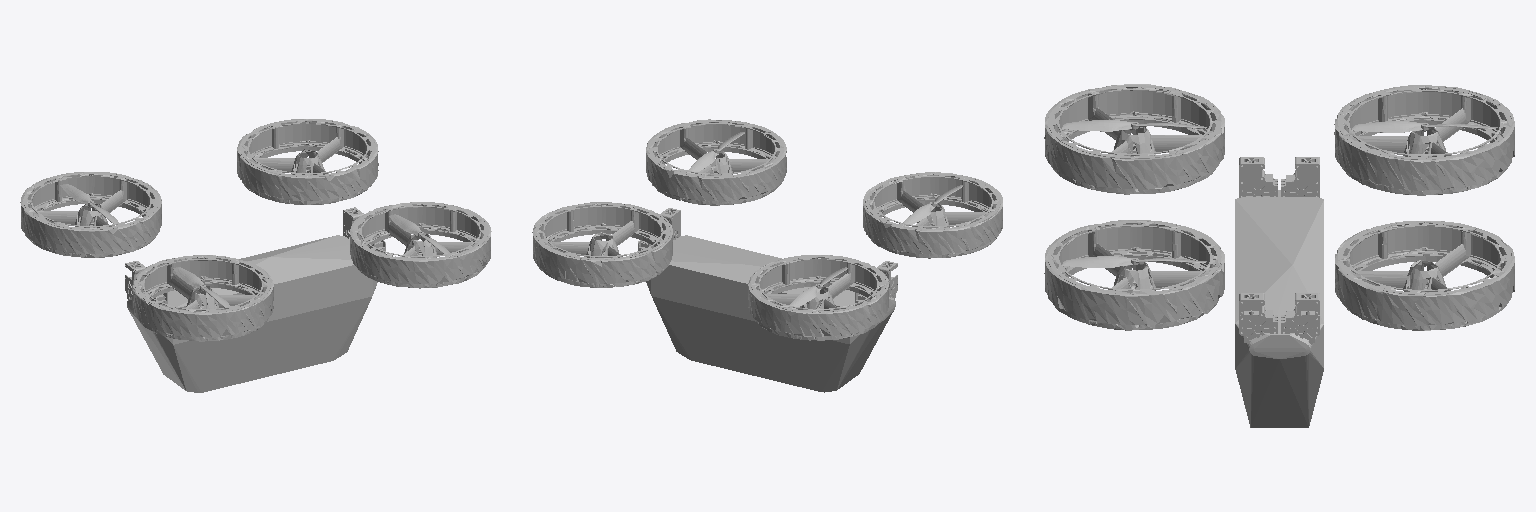
--- What the picture shows (computed from the rendered views, not written in the file) ---
The picture shows the robot from 3 angles, left to right: view 1: azimuth 30°, elevation 25°; view 2: azimuth 150°, elevation 25°; view 3: azimuth 270°, elevation 25°; orthographic projection.
Model m4assembly with 22 links and 21 joints (10 revolute, 4 continuous, 7 fixed), rooted at base_link, posed every joint at zero.
Visible links, largest first — view 1: base_link, front_left_wheel, rear_left_wheel, rear_right_wheel, front_right_wheel; view 2: base_link, front_left_wheel, front_right_wheel, rear_right_wheel, rear_left_wheel; view 3: base_link, front_left_wheel, rear_left_wheel, front_right_wheel, rear_right_wheel, front_right_hip, front_left_hip, rear_right_hip, rear_left_hip, front_right_blade, rear_left_blade, rear_right_blade.
Boxes of the visible links, x1=… form: base_link: x1=127, y1=235, x2=377, y2=392; front_left_wheel: x1=237, y1=119, x2=378, y2=204; rear_left_wheel: x1=20, y1=172, x2=161, y2=257; rear_right_wheel: x1=132, y1=255, x2=273, y2=341; front_right_wheel: x1=350, y1=202, x2=491, y2=288; base_link: x1=646, y1=235, x2=895, y2=392; front_left_wheel: x1=532, y1=202, x2=672, y2=287; front_right_wheel: x1=646, y1=119, x2=786, y2=205; rear_right_wheel: x1=863, y1=172, x2=1002, y2=258; rear_left_wheel: x1=748, y1=255, x2=888, y2=340; base_link: x1=1235, y1=190, x2=1323, y2=427; front_left_wheel: x1=1335, y1=221, x2=1514, y2=330; rear_left_wheel: x1=1334, y1=85, x2=1514, y2=195; front_right_wheel: x1=1044, y1=220, x2=1224, y2=330; rear_right_wheel: x1=1044, y1=84, x2=1224, y2=194; front_right_hip: x1=1239, y1=293, x2=1277, y2=343; front_left_hip: x1=1281, y1=293, x2=1319, y2=344; rear_right_hip: x1=1239, y1=157, x2=1277, y2=197; rear_left_hip: x1=1281, y1=157, x2=1319, y2=197; front_right_blade: x1=1062, y1=256, x2=1206, y2=267; rear_left_blade: x1=1352, y1=121, x2=1497, y2=132; rear_right_blade: x1=1062, y1=119, x2=1206, y2=131.
Size in the robot's own frame: 0.6978 by 0.6533 by 0.2982 metres.
12 mesh visuals loaded from 18 distinct referenced files (12 binary STL); not drawn: 6 (reference not matched to a file when rendering).

The robot description file, URDF, robot "m4assembly":
<?xml version="1.0" encoding="utf-8"?>

<robot name="m4assembly">
  <joint name="m4/ground_truth/odometry_sensorgt_joint" type="revolute">
    <parent link="base_link"/>
    <child link="m4/ground_truth/odometry_sensorgt_link"/>
    <origin xyz="0      0      0.19492" rpy="0 0 0"/>
    <axis xyz="0 0 1"/>
    <limit lower="0.0" upper="0.0" effort="0.0" velocity="0.0"/>
  </joint>
  <joint name="m4/imu_joint" type="revolute">
    <parent link="base_link"/>
    <child link="m4/imu_link"/>
    <origin xyz="0      0      0.19492" rpy="0 0 0"/>
    <axis xyz="0 0 1"/>
    <limit lower="0.0" upper="0.0" effort="0.0" velocity="0.0"/>
  </joint>
  <link name="m4/ground_truth/odometry_sensorgt_link">
    <inertial>
      <mass value="0.001"/>
      <origin xyz="0 0 0" rpy="0 0 0"/>
      <inertia ixx="0.0001" ixy="0" ixz="0" iyy="0.0002" iyz="0" izz="0.0002"/>
    </inertial>
  </link>
  <link name="m4/imu_link">
   <inertial>
      <mass value="0.001"/>
      <origin xyz="0 0 0" rpy="0 0 0"/>
      <inertia ixx="0.00001" ixy="0" ixz="0" iyy="0.00002" iyz="0" izz="0.00002"/>
   </inertial>
  </link>
  <link
    name="base_link">
    <inertial>
      <origin
        xyz="0.00014012 -1.2866E-05 -0.067235"
        rpy="0 0 0" />
      <mass
        value="1.054" />
      <inertia
        ixx="0.00066925"
        ixy="-1.7138E-07"
        ixz="8.4179E-07"
        iyy="0.0060916"
        iyz="-5.4732E-08"
        izz="0.006372" />
    </inertial>
    <visual>
      <origin
        xyz="0 0 0"
        rpy="0 0 0" />
      <geometry>
        <mesh
          filename="package://simulation_world/meshes/base_link.STL" />
      </geometry>
      <material
        name="">
        <color
          rgba="0.75294 0.75294 0.75294 1" />
      </material>
    </visual>
    <collision>
      <origin
        xyz="0 0 0"
        rpy="0 0 0" />
      <geometry>
        <mesh
          filename="package://simulation_world/meshes/col/base_link.STL" />
      </geometry>
    </collision>
  </link>
  <link
    name="rear_left_hip">
    <inertial>
      <origin
        xyz="0.032048263261567 0.00148857273521091 0.000801285389170403"
        rpy="0 0 0" />
      <mass
        value="0.0631744337027232" />
      <inertia
        ixx="1.00187470871694E-05"
        ixy="1.26346518144828E-06"
        ixz="-1.71088892144535E-13"
        iyy="1.47423630145446E-05"
        iyz="-3.33426314544602E-14"
        izz="2.18314090226691E-05" />
    </inertial>
    <visual>
      <origin
        xyz="0 0 0"
        rpy="0 0 0" />
      <geometry>
        <mesh
          filename="package://simulation_world/meshes/rear_left_hip.STL" />
      </geometry>
      <material
        name="">
        <color
          rgba="0.752941176470588 0.752941176470588 0.752941176470588 1" />
      </material>
    </visual>
    <collision>
      <origin
        xyz="0 0 0"
        rpy="0 0 0" />
      <geometry>
        <mesh
          filename="package://simulation_world/meshes/col/rear_left_hip.STL" />
      </geometry>
    </collision>
  </link>
  <joint
    name="rear_left_hip_joint"
    type="revolute">
    <origin
      xyz="-0.2231 0.0323 -0.02605"
      rpy="1.5708 -1.5708 1.5708" />
    <parent
      link="base_link" />
    <child
      link="rear_left_hip" />
    <axis
      xyz="0 0 1" />
    <limit
      lower="0"
      upper="0"
      effort="10.5"
      velocity="1.57" />
  </joint>
  <link
    name="rear_left_leg">
    <inertial>
      <origin
        xyz="-3.41455978458693E-06 0.0865094820933296 -0.00425258484840052"
        rpy="0 0 0" />
      <mass
        value="0.208886814057311" />
      <inertia
        ixx="7.70084638154863E-05"
        ixy="9.13752456418355E-09"
        ixz="3.41558069671286E-07"
        iyy="5.22430908180149E-05"
        iyz="-3.49227338347394E-08"
        izz="5.21652155907927E-05" />
    </inertial>
    <visual>
      <origin
        xyz="0 0 0"
        rpy="0 0 0" />
      <geometry>
        <mesh
          filename="package://simulation_world/meshes/rear_left_leg.STL" />
      </geometry>
      <material
        name="">
        <color
          rgba="0.752941176470588 0.752941176470588 0.752941176470588 1" />
      </material>
    </visual>
    <collision>
      <origin
        xyz="0 0 0"
        rpy="0 0 0" />
      <geometry>
        <mesh
          filename="package://simulation_world/meshes/col/rear_left_leg.STL" />
      </geometry>
    </collision>
  </link>
  <joint
    name="rear_left_leg_joint"
    type="fixed">
    <origin
      xyz="0.0611 -0.006895 -5E-05"
      rpy="1.5708 -1.5526 1.5708" />
    <parent
      link="rear_left_hip" />
    <child
      link="rear_left_leg" />
    <axis
      xyz="0 0 -1" />
  </joint>
  <link
    name="rear_left_wheel">
    <inertial>
      <origin
        xyz="-1.2835011736767E-06 2.34490590667047E-07 -0.0298825868697071"
        rpy="0 0 0" />
      <mass
        value="0.447367748033206" />
      <inertia
        ixx="0.00104268899323013"
        ixy="-3.91603340525233E-08"
        ixz="3.60415118706037E-11"
        iyy="0.00104263881447407"
        iyz="-3.26123864995785E-11"
        izz="0.00200352361648073" />
    </inertial>
    <visual>
      <origin
        xyz="0 0 0"
        rpy="0 0 0" />
      <geometry>
        <mesh
          filename="package://simulation_world/meshes/rear_left_wheel.STL" />
      </geometry>
      <material
        name="">
        <color
          rgba="0.752941176470588 0.752941176470588 0.752941176470588 1" />
      </material>
    </visual>
    <collision>
      <origin
        xyz="0 0 0"
        rpy="0 0 0" />
      <geometry>
        <mesh
          filename="package://simulation_world/meshes/col/rear_left_wheel.STL" />
      </geometry>
    </collision>
  </link>
  <joint
    name="rear_left_wheel_joint"
    type="continuous">
    <origin
      xyz="0 0.162 0.011129"
      rpy="-3.1416 0 0.018227" />
    <parent
      link="rear_left_leg" />
    <child
      link="rear_left_wheel" />
    <axis
      xyz="0 0 -1" />
    <limit
      effort="200"
      velocity="200" />
  </joint>
  <link
    name="rear_left_blade">
    <inertial>
      <origin
        xyz="0 0 0.0082946342231609"
        rpy="0 0 0" />
      <mass
        value="0.00610274937825579" />
      <inertia ixx="9.75e-06" ixy="0" ixz="0" iyy="0.000166704" iyz="0" izz="0.000167604"/>
    </inertial>
    <visual>
      <origin
        xyz="0 0 0"
        rpy="0 0 0" />
      <geometry>
        <mesh
          filename="package://simulation_world/meshes/rear_left_blade.STL" />
      </geometry>
      <material
        name="">
        <color
          rgba="0.752941176470588 0.752941176470588 0.752941176470588 1" />
      </material>
    </visual>
    <collision>
      <origin
        xyz="0 0 0"
        rpy="0 0 0" />
      <geometry>
        <cylinder radius="0.1" length="0.005"/>
      </geometry>
    </collision>
  </link>
  <joint
    name="rear_left_blade_joint"
    type="revolute">
    <origin
      xyz="0 0.162 0.061129"
      rpy="-0.0099006 0 0.018227" />
    <parent
      link="rear_left_leg" />
    <child
      link="rear_left_blade" />
    <axis
      xyz="0 -0.0099004 0.99995" />
    <limit lower="-1e+16" upper="1e+16" effort="10000" velocity="10000"/>
  </joint>
  <link
    name="rear_right_hip">
    <inertial>
      <origin
        xyz="0.0320482634870919 0.00148857274187802 -0.000820989548367512"
        rpy="0 0 0" />
      <mass
        value="0.0631744341018766" />
      <inertia
        ixx="1.00187470810585E-05"
        ixy="1.26346518895748E-06"
        ixz="-1.58209935155058E-13"
        iyy="1.47423629783338E-05"
        iyz="-2.99342928986296E-14"
        izz="2.18314089935792E-05" />
    </inertial>
    <visual>
      <origin
        xyz="0 0 0"
        rpy="0 0 0" />
      <geometry>
        <mesh
          filename="package://simulation_world/meshes/rear_right_hip.STL" />
      </geometry>
      <material
        name="">
        <color
          rgba="0.752941176470588 0.752941176470588 0.752941176470588 1" />
      </material>
    </visual>
    <collision>
      <origin
        xyz="0 0 0"
        rpy="0 0 0" />
      <geometry>
        <mesh
          filename="package://simulation_world/meshes/col/rear_right_hip.STL" />
      </geometry>
    </collision>
  </link>
  <joint
    name="rear_right_hip_joint"
    type="revolute">
    <origin
      xyz="-0.2235 -0.0323 -0.02605"
      rpy="1.5708 -1.5708 -1.5708" />
    <parent
      link="base_link" />
    <child
      link="rear_right_hip" />
    <axis
      xyz="0 0 1" />
    <limit
      lower="0"
      upper="0"
      effort="10.5"
      velocity="1.57" />
  </joint>
  <link
    name="rear_right_leg">
    <inertial>
      <origin
        xyz="3.41455156416259E-06 0.0865094821571721 0.00425258483326613"
        rpy="0 0 0" />
      <mass
        value="0.208886814304404" />
      <inertia
        ixx="7.70084638389827E-05"
        ixy="-9.13752631729426E-09"
        ixz="3.41558058672973E-07"
        iyy="5.22430908411789E-05"
        iyz="3.49227166953638E-08"
        izz="5.21652156031499E-05" />
    </inertial>
    <visual>
      <origin
        xyz="0 0 0"
        rpy="0 0 0" />
      <geometry>
        <mesh
          filename="package://simulation_world/meshes/rear_right_leg.STL" />
      </geometry>
      <material
        name="">
        <color
          rgba="0.752941176470588 0.752941176470588 0.752941176470588 1" />
      </material>
    </visual>
    <collision>
      <origin
        xyz="0 0 0"
        rpy="0 0 0" />
      <geometry>
        <mesh
          filename="package://simulation_world/meshes/col/rear_right_leg.STL" />
      </geometry>
    </collision>
  </link>
  <joint
    name="rear_right_leg_joint"
    type="fixed">
    <origin
      xyz="0.0611 -0.006895 0"
      rpy="3.1416 1.5708 0" />
    <parent
      link="rear_right_hip" />
    <child
      link="rear_right_leg" />
    <axis
      xyz="0 0 1" />
  </joint>
  <link
    name="rear_right_wheel">
    <inertial>
      <origin
        xyz="-1.78659846361562E-08 -2.01874887645337E-06 0.0255799203790625"
        rpy="0 0 0" />
      <mass
        value="0.447367750743676" />
      <inertia
        ixx="0.0010426206896193"
        ixy="-2.73561891555305E-10"
        ixz="3.48030847023143E-11"
        iyy="0.00104270712224184"
        iyz="3.22928670574781E-11"
        izz="0.00200352362095162" />
    </inertial>
    <visual>
      <origin
        xyz="0 0 0"
        rpy="0 0 0" />
      <geometry>
        <mesh
          filename="package://simulation_world/meshes/rear_right_wheel.STL" />
      </geometry>
      <material
        name="">
        <color
          rgba="0.752941176470588 0.752941176470588 0.752941176470588 1" />
      </material>
    </visual>
    <collision>
      <origin
        xyz="0 0 0"
        rpy="0 0 0" />
      <geometry>
        <mesh
          filename="package://simulation_world/meshes/col/rear_right_wheel.STL" />
      </geometry>
    </collision>
  </link>
  <joint
    name="rear_right_wheel_joint"
    type="continuous">
    <origin
      xyz="0 0.162 -0.015431"
      rpy="3.1416 0 0" />
    <parent
      link="rear_right_leg" />
    <child
      link="rear_right_wheel" />
    <axis
      xyz="0 0 -1" />
    <limit
      effort="200"
      velocity="200" />
  </joint>
  <link
    name="rear_right_blade">
    <inertial>
      <origin
        xyz="0 0 0.00399237045178649"
        rpy="0 0 0" />
      <mass
        value="0.00610270077025495" />
      <inertia ixx="9.75e-06" ixy="0" ixz="0" iyy="0.000166704" iyz="0" izz="0.000167604"/>
    </inertial>
    <visual>
      <origin
        xyz="0 0 0"
        rpy="0 0 0" />
      <geometry>
        <mesh
          filename="package://simulation_world/meshes/rear_right_blade.STL" />
      </geometry>
      <material
        name="">
        <color
          rgba="0.752941176470588 0.752941176470588 0.752941176470588 1" />
      </material>
    </visual>
    <collision>
      <origin
        xyz="0 0 0"
        rpy="0 0 0" />
      <geometry>
        <mesh
          filename="package://simulation_world/meshes/col/rear_right_blade.STL" />
      </geometry>
    </collision>
  </link>
  <joint
    name="rear_right_blade_joint"
    type="revolute">
    <origin
      xyz="0 0.162 -0.065431"
      rpy="3.1416 0 0" />
    <parent
      link="rear_right_leg" />
    <child
      link="rear_right_blade" />
    <axis
      xyz="0 0 1" />
    <limit lower="-1e+16" upper="1e+16" effort="10000" velocity="10000"/>  
  </joint>
  <link
    name="front_left_hip">
    <inertial>
      <origin
        xyz="0.0320482633471696 0.00148857273674285 0.00169341200883941"
        rpy="0 0 0" />
      <mass
        value="0.0631744338743183" />
      <inertia
        ixx="1.00187470896772E-05"
        ixy="1.26346518496343E-06"
        ixz="-1.75127210359815E-13"
        iyy="1.474236301921E-05"
        iyz="-3.22758580937248E-14"
        izz="2.18314090243211E-05" />
    </inertial>
    <visual>
      <origin
        xyz="0 0 0"
        rpy="0 0 0" />
      <geometry>
        <mesh
          filename="package://simulation_world/meshes/front_left_hip.STL" />
      </geometry>
      <material
        name="">
        <color
          rgba="0.752941176470588 0.752941176470588 0.752941176470588 1" />
      </material>
    </visual>
    <collision>
      <origin
        xyz="0 0 0"
        rpy="0 0 0" />
      <geometry>
        <mesh
          filename="package://simulation_world/meshes/col/front_left_hip.STL" />
      </geometry>
    </collision>
  </link>
  <joint
    name="front_left_hip_joint"
    type="revolute">
    <origin
      xyz="0.22099 0.0323 -0.02605"
      rpy="1.5708 -1.5708 1.5708" />
    <parent
      link="base_link" />
    <child
      link="front_left_hip" />
    <axis
      xyz="0 0 1" />
    <limit
      lower="0"
      upper="0"
      effort="10.5"
      velocity="1.57" />
  </joint>
  <link
    name="front_left_leg">
    <inertial>
      <origin
        xyz="-3.41455576607095E-06 0.0865094821265606 -0.00425258483916741"
        rpy="0 0 0" />
      <mass
        value="0.208886814202469" />
      <inertia
        ixx="7.70084638282559E-05"
        ixy="9.13752541336675E-09"
        ixz="3.41558064254658E-07"
        iyy="5.22430908306995E-05"
        iyz="-3.49227240782923E-08"
        izz="5.21652155975951E-05" />
    </inertial>
    <visual>
      <origin
        xyz="0 0 0"
        rpy="0 0 0" />
      <geometry>
        <mesh
          filename="package://simulation_world/meshes/front_left_leg.STL" />
      </geometry>
      <material
        name="">
        <color
          rgba="0.752941176470588 0.752941176470588 0.752941176470588 1" />
      </material>
    </visual>
    <collision>
      <origin
        xyz="0 0 0"
        rpy="0 0 0" />
      <geometry>
        <mesh
          filename="package://simulation_world/meshes/col/front_left_leg.STL" />
      </geometry>
    </collision>
  </link>
  <joint
    name="front_left_leg_joint"
    type="fixed">
    <origin
      xyz="0.0611 -0.006895 0.0025144"
      rpy="-1.5708 -1.5708 -1.5708" />
    <parent
      link="front_left_hip" />
    <child
      link="front_left_leg" />
    <axis
      xyz="0 0 -1" />
  </joint>
  <link
    name="front_left_wheel">
    <inertial>
      <origin
        xyz="1.77235233511999E-08 -2.01879895370127E-06 -0.0284894545323338"
        rpy="0 0 0" />
      <mass
        value="0.447367750292981" />
      <inertia
        ixx="0.00104262069065618"
        ixy="2.74220212176939E-10"
        ixz="3.54050122778484E-11"
        iyy="0.00104270712119543"
        iyz="-3.25695335683767E-11"
        izz="0.00200352362063109" />
    </inertial>
    <visual>
      <origin
        xyz="0 0 0"
        rpy="0 0 0" />
      <geometry>
        <mesh
          filename="package://simulation_world/meshes/front_left_wheel.STL" />
      </geometry>
      <material
        name="">
        <color
          rgba="0.752941176470588 0.752941176470588 0.752941176470588 1" />
      </material>
    </visual>
    <collision>
      <origin
        xyz="0 0 0"
        rpy="0 0 0" />
      <geometry>
        <mesh
          filename="package://simulation_world/meshes/col/front_left_wheel.STL" />
      </geometry>
    </collision>
  </link>
  <joint
    name="front_left_wheel_joint"
    type="continuous">
    <origin
      xyz="0 0.162 0.012522"
      rpy="3.1416 0 0" />
    <parent
      link="front_left_leg" />
    <child
      link="front_left_wheel" />
    <axis
      xyz="0 0 -1" />
    <limit
      effort="200"
      velocity="200" />
  </joint>
  <link
    name="front_left_blade">
    <inertial>
      <origin
        xyz="0 0 0.0069019562259629"
        rpy="0 0 0" />
      <mass
        value="0.0061028301426362" />
      <inertia ixx="9.75e-06" ixy="0" ixz="0" iyy="0.000166704" iyz="0" izz="0.000167604"/>
    </inertial>
    <visual>
      <origin
        xyz="0 0 0"
        rpy="0 0 0" />
      <geometry>
        <mesh
          filename="package://simulation_world/meshes/front_left_blade.STL" />
      </geometry>
      <material
        name="">
        <color
          rgba="0.752941176470588 0.752941176470588 0.752941176470588 1" />
      </material>
    </visual>
    <collision>
      <origin
        xyz="0 0 0"
        rpy="0 0 0" />
      <geometry>
        <mesh
          filename="package://simulation_world/meshes/col/front_left_blade.STL" />
      </geometry>
    </collision>
  </link>
  <joint
    name="front_left_blade_joint"
    type="revolute">
    <origin
      xyz="0 0.162 0.062522"
      rpy="0 0 0" />
    <parent
      link="front_left_leg" />
    <child
      link="front_left_blade" />
    <axis
      xyz="0 0 1" />
    <limit lower="-1e+16" upper="1e+16" effort="10000" velocity="10000"/>
  </joint>
  <link
    name="front_right_hip">
    <inertial>
      <origin
        xyz="0.0320482634665248 0.0014885727412563 -0.00131311618414334"
        rpy="0 0 0" />
      <mass
        value="0.0631744340641276" />
      <inertia
        ixx="1.00187470815544E-05"
        ixy="1.26346518823477E-06"
        ixz="-1.57692513882067E-13"
        iyy="1.47423629788781E-05"
        iyz="-2.96148209881054E-14"
        izz="2.18314089943886E-05" />
    </inertial>
    <visual>
      <origin
        xyz="0 0 0"
        rpy="0 0 0" />
      <geometry>
        <mesh
          filename="package://simulation_world/meshes/front_right_hip.STL" />
      </geometry>
      <material
        name="">
        <color
          rgba="0.752941176470588 0.752941176470588 0.752941176470588 1" />
      </material>
    </visual>
    <collision>
      <origin
        xyz="0 0 0"
        rpy="0 0 0" />
      <geometry>
        <mesh
          filename="package://simulation_world/meshes/col/front_right_hip.STL" />
      </geometry>
    </collision>
  </link>
  <joint
    name="front_right_hip_joint"
    type="revolute">
    <origin
      xyz="0.22099 -0.0323 -0.02605"
      rpy="1.5708 -1.5708 -1.5708" />
    <parent
      link="base_link" />
    <child
      link="front_right_hip" />
    <axis
      xyz="0 0 1" />
    <limit
      lower="0"
      upper="0"
      effort="10.5"
      velocity="1.57" />
  </joint>
  <link
    name="front_right_leg">
    <inertial>
      <origin
        xyz="3.41455365766163E-06 0.0865094821436897 0.00425258483703411"
        rpy="0 0 0" />
      <mass
        value="0.208886814244098" />
      <inertia
        ixx="7.70084638339796E-05"
        ixy="-9.13752605384622E-09"
        ixz="3.4155806167583E-07"
        iyy="5.2243090836002E-05"
        iyz="3.49227209398553E-08"
        izz="5.21652156003534E-05" />
    </inertial>
    <visual>
      <origin
        xyz="0 0 0"
        rpy="0 0 0" />
      <geometry>
        <mesh
          filename="package://simulation_world/meshes/front_right_leg.STL" />
      </geometry>
      <material
        name="">
        <color
          rgba="0.752941176470588 0.752941176470588 0.752941176470588 1" />
      </material>
    </visual>
    <collision>
      <origin
        xyz="0 0 0"
        rpy="0 0 0" />
      <geometry>
        <mesh
          filename="package://simulation_world/meshes/col/front_right_leg.STL" />
      </geometry>
    </collision>
  </link>
  <joint
    name="front_right_leg_joint"
    type="fixed">
    <origin
      xyz="0.0611 -0.006895 -0.0021644"
      rpy="1.5708 1.5656 -1.5708" />
    <parent
      link="front_right_hip" />
    <child
      link="front_right_leg" />
    <axis
      xyz="0 0 1" />
    <limit
      lower="-0.5"
      upper="0.5"
      effort="10.5"
      velocity="1.57" />
  </joint>
  <link
    name="front_right_wheel">
    <inertial>
      <origin
        xyz="1.28310223720821E-06 2.3448596928044E-07 0.0255837574129385"
        rpy="0 0 0" />
      <mass
        value="0.447367750640603" />
      <inertia
        ixx="0.00104268899474349"
        ixy="3.91619025865096E-08"
        ixz="3.50659148166867E-11"
        iyy="0.00104263881744075"
        iyz="3.24293757397963E-11"
        izz="0.00200352362110246" />
    </inertial>
    <visual>
      <origin
        xyz="0 0 0"
        rpy="0 0 0" />
      <geometry>
        <mesh
          filename="package://simulation_world/meshes/front_right_wheel.STL" />
      </geometry>
      <material
        name="">
        <color
          rgba="0.752941176470588 0.752941176470588 0.752941176470588 1" />
      </material>
    </visual>
    <collision>
      <origin
        xyz="0 0 0"
        rpy="0 0 0" />
      <geometry>
        <mesh
          filename="package://simulation_world/meshes/col/front_right_wheel.STL" />
      </geometry>
    </collision>
  </link>
  <joint
    name="front_right_wheel_joint"
    type="continuous">
    <origin
      xyz="0 0.162 -0.015427"
      rpy="-3.1416 0 -0.0052077" />
    <parent
      link="front_right_leg" />
    <child
      link="front_right_wheel" />
    <axis
      xyz="0 0 -1" />
    <limit
      effort="200"
      velocity="200" />
  </joint>
  <link
    name="front_right_blade">
    <inertial>
      <origin
        xyz="0 0 0.0039962219905107"
        rpy="0 0 0" />
      <mass
        value="0.00610290216434297" />
      <inertia ixx="9.75e-06" ixy="0" ixz="0" iyy="0.000166704" iyz="0" izz="0.000167604"/>
    </inertial>
    <visual>
      <origin
        xyz="0 0 0"
        rpy="0 0 0" />
      <geometry>
        <mesh
          filename="package://simulation_world/meshes/front_right_blade.STL" />
      </geometry>
      <material
        name="">
        <color
          rgba="0.752941176470588 0.752941176470588 0.752941176470588 1" />
      </material>
    </visual>
    <collision>
      <origin
        xyz="0 0 0"
        rpy="0 0 0" />
      <geometry>
        <mesh
          filename="package://simulation_world/meshes/col/front_right_blade.STL" />
      </geometry>
    </collision>
  </link>
  <joint
    name="front_right_blade_joint"
    type="revolute">
    <origin
      xyz="0 0.162 -0.065427"
      rpy="-3.1416 0 -0.0052077" />
    <parent
      link="front_right_leg" />
    <child
      link="front_right_blade" />
    <axis
      xyz="0 0 1" />
    <limit lower="-1e+16" upper="1e+16" effort="10000" velocity="10000"/>
  </joint>

    <link name="front_realsense" />

  <!--
    The gazebo plugin aligns the depth data with the Z axis, with X=left and Y=up
    ROS expects the depth data along the X axis, with Y=left and Z=up
    This link only exists to give the gazebo plugin the correctly-oriented frame
  -->
  <link name="front_realsense_gazebo" />
  <joint name="front_realsense_gazebo_joint" type="fixed">
    <parent link="front_realsense"/>
    <child link="front_realsense_gazebo"/>
    <origin xyz="0.0 0 0" rpy="-1.5707963267948966 0 -1.5707963267948966"/>
  </joint>

  <gazebo reference="front_realsense">
    <turnGravityOff>true</turnGravityOff>
    <sensor type="depth" name="front_realsense_depth">
      <update_rate>30</update_rate>
      <camera>
        <!-- 75x65 degree FOV for the depth sensor -->
        <horizontal_fov>1.5184351666666667</horizontal_fov>
        <vertical_fov>1.0122901111111111</vertical_fov>

        <image>
          <width>640</width>
          <height>480</height>
          <format>RGB8</format>
        </image>
        <clip>
          <!-- give the color sensor a maximum range of 50m so that the simulation renders nicely -->
          <near>0.01</near>
          <far>50.0</far>
        </clip>
      </camera>
      <plugin name="kinect_controller" filename="libgazebo_ros_openni_kinect.so">
        <baseline>0.2</baseline>
        <alwaysOn>true</alwaysOn>
        <updateRate>30</updateRate>
        <cameraName>realsense</cameraName>
        <imageTopicName>color/image_raw</imageTopicName>
        <cameraInfoTopicName>color/camera_info</cameraInfoTopicName>
        <depthImageTopicName>depth/image_rect_raw</depthImageTopicName>
        <depthImageInfoTopicName>depth/camera_info</depthImageInfoTopicName>
        <pointCloudTopicName>depth/color/points</pointCloudTopicName>
        <frameName>front_realsense_gazebo</frameName>
        <pointCloudCutoff>0.105</pointCloudCutoff>
        <pointCloudCutoffMax>8.0</pointCloudCutoffMax>
        <distortionK1>0.00000001</distortionK1>
        <distortionK2>0.00000001</distortionK2>
        <distortionK3>0.00000001</distortionK3>
        <distortionT1>0.00000001</distortionT1>
        <distortionT2>0.00000001</distortionT2>
        <CxPrime>0</CxPrime>
        <Cx>0</Cx>
        <Cy>0</Cy>
        <focalLength>0</focalLength>
        <hackBaseline>0</hackBaseline>
      </plugin>
    </sensor>
  </gazebo>

  <link name="front_realsense_lens">
    <visual>
      <origin xyz="0.02 0 0" rpy="1.5707963267948966 0 1.5707963267948966" />
      <geometry>
        <mesh filename="package://realsense2_description/meshes/d435.dae" />
      </geometry>
      <material name="white" />
    </visual>
  </link>

  <joint type="fixed" name="front_realsense_lens_joint">
    <!-- Offset the camera 2cm backwards and 1cm up -->
    <origin xyz="0.24099 0 0" rpy="0 0 0" />
    <parent link="base_link" />
    <child link="front_realsense_lens" />
  </joint>
  <joint type="fixed" name="front_realsense_joint">
    <origin xyz="0.025 0 0" rpy="0 0 0" />
    <parent link="front_realsense_lens" />
    <child link="front_realsense" />
  </joint>
  
  <gazebo>
  <plugin name="p3d_base_controller" filename="libgazebo_ros_p3d.so">
   <alwaysOn>true</alwaysOn>
   <updateRate>50.0</updateRate>
   <bodyName>base_link</bodyName>
   <topicName>my_odom</topicName>
   <gaussianNoise>0.01</gaussianNoise>
   <frameName>world</frameName>
   <xyzOffsets>0 0 0</xyzOffsets>
   <rpyOffsets>0 0 0</rpyOffsets>
  </plugin>
  </gazebo>
  
<!-- ROS Control plugin for Gazebo -->
  <gazebo>
    <plugin name="gazebo_ros_control" filename="libgazebo_ros_control.so">
      <robotNamespace>/m4assembly</robotNamespace>
    </plugin>
  </gazebo>

  <!-- transmission -->
  <transmission name="rl_hip_trans">
    <type>transmission_interface/SimpleTransmission</type>
    <actuator name="motor1">
      <mechanicalReduction>1</mechanicalReduction>
    </actuator>
    <joint name="rear_left_hip_joint">
      <hardwareInterface>hardware_interface/EffortJointInterface</hardwareInterface>
    </joint>
  </transmission>

  <transmission name="rl_wheel_trans">
    <type>transmission_interface/SimpleTransmission</type>
    <actuator name="motor3">
      <mechanicalReduction>1</mechanicalReduction>
    </actuator>
    <joint name="rear_left_wheel_joint">
      <hardwareInterface>hardware_interface/VelocityJointInterface</hardwareInterface>
    </joint>
  </transmission>

  <transmission name="rr_hip_trans">
    <type>transmission_interface/SimpleTransmission</type>
    <actuator name="motor5">
      <mechanicalReduction>1</mechanicalReduction>
    </actuator>
    <joint name="rear_right_hip_joint">
      <hardwareInterface>hardware_interface/EffortJointInterface</hardwareInterface>
    </joint>
  </transmission>

  <transmission name="rr_wheel_trans">
    <type>transmission_interface/SimpleTransmission</type>
    <actuator name="motor7">
      <mechanicalReduction>1</mechanicalReduction>
    </actuator>
    <joint name="rear_right_wheel_joint">
      <hardwareInterface>hardware_interface/VelocityJointInterface</hardwareInterface>
    </joint>
  </transmission>

  <transmission name="fl_hip_trans">
    <type>transmission_interface/SimpleTransmission</type>
    <actuator name="motor9">
      <mechanicalReduction>1</mechanicalReduction>
    </actuator>
    <joint name="front_left_hip_joint">
      <hardwareInterface>hardware_interface/EffortJointInterface</hardwareInterface>
    </joint>
  </transmission>

  <transmission name="fl_wheel_trans">
    <type>transmission_interface/SimpleTransmission</type>
    <actuator name="motor11">
      <mechanicalReduction>1</mechanicalReduction>
    </actuator>
    <joint name="front_left_wheel_joint">
      <hardwareInterface>hardware_interface/VelocityJointInterface</hardwareInterface>
    </joint>
  </transmission>

  <transmission name="fr_hip_trans">
    <type>transmission_interface/SimpleTransmission</type>
    <actuator name="motor13">
      <mechanicalReduction>1</mechanicalReduction>
    </actuator>
    <joint name="front_right_hip_joint">
      <hardwareInterface>hardware_interface/EffortJointInterface</hardwareInterface>
    </joint>
  </transmission>

  <transmission name="fr_wheel_trans">
    <type>transmission_interface/SimpleTransmission</type>
    <actuator name="motor12">
      <mechanicalReduction>1</mechanicalReduction>
    </actuator>
    <joint name="front_right_wheel_joint">
      <hardwareInterface>hardware_interface/VelocityJointInterface</hardwareInterface>
    </joint>
  </transmission>
  

  <gazebo reference="m4/imu_link">
    <gravity>true</gravity>
    <sensor name="imu_sensor" type="imu">
      <always_on>true</always_on>
      <update_rate>1000</update_rate>
      <visualize>true</visualize>
      <topic>__default_topic__</topic>
      <plugin filename="libgazebo_ros_imu_sensor.so" name="imu_plugin">
        <topicName>imu_link</topicName>
        <bodyName>m4/imu_link</bodyName>
        <updateRateHZ>10.0</updateRateHZ>
        <gaussianNoise>0.0</gaussianNoise>
        <xyzOffset>0 0 0</xyzOffset>
        <rpyOffset>0 0 0</rpyOffset>
        <frameName>imu_link</frameName>
        <initialOrientationAsReference>false</initialOrientationAsReference>
      </plugin>
      <pose>0 0 0 3.141593 0 0</pose>
    </sensor>
  </gazebo>
  <gazebo>
    <plugin name="rotor_0_blade_1" filename="libLiftDragPlugin.so">
      <a0>0.3</a0>
      <alpha_stall>1.4</alpha_stall>
      <cla>4.2500</cla>
      <cda>0.10</cda>
      <cma>0.00</cma>
      <cla_stall>-0.025</cla_stall>
      <cda_stall>0.0</cda_stall>
      <cma_stall>0.0</cma_stall>
      <area>0.002</area>
      <air_density>1.2041</air_density>
      <cp>0.084 0 0</cp>
      <forward>0 1 0</forward>
      <upward>0 0 1</upward>
      <link_name>front_right_blade</link_name>
    </plugin>
    <plugin name="rotor_0_blade_2" filename="libLiftDragPlugin.so">
      <a0>0.3</a0>
      <alpha_stall>1.4</alpha_stall>
      <cla>4.2500</cla>
      <cda>0.10</cda>
      <cma>0.00</cma>
      <cla_stall>-0.025</cla_stall>
      <cda_stall>0.0</cda_stall>
      <cma_stall>0.0</cma_stall>
      <area>0.002</area>
      <air_density>1.2041</air_density>
      <cp>-0.084 0 0</cp>
      <forward>0 -1 0</forward>
      <upward>0 0 1</upward>
      <link_name>front_right_blade</link_name>
    </plugin>

    <plugin name="rotor_1_blade_1" filename="libLiftDragPlugin.so">
      <a0>0.3</a0>
      <alpha_stall>1.4</alpha_stall>
      <cla>4.2500</cla>
      <cda>0.10</cda>
      <cma>0.00</cma>
      <cla_stall>-0.025</cla_stall>
      <cda_stall>0.0</cda_stall>
      <cma_stall>0.0</cma_stall>
      <area>0.002</area>
      <air_density>1.2041</air_density>
      <cp>0.084 0 0</cp>
      <forward>0 1 0</forward>
      <upward>0 0 1</upward>
      <link_name>rear_left_blade</link_name>
    </plugin>
    <plugin name="rotor_1_blade_2" filename="libLiftDragPlugin.so">
      <a0>0.3</a0>
      <alpha_stall>1.4</alpha_stall>
      <cla>4.2500</cla>
      <cda>0.10</cda>
      <cma>0.00</cma>
      <cla_stall>-0.025</cla_stall>
      <cda_stall>0.0</cda_stall>
      <cma_stall>0.0</cma_stall>
      <area>0.002</area>
      <air_density>1.2041</air_density>
      <cp>-0.084 0 0</cp>
      <forward>0 -1 0</forward>
      <upward>0 0 1</upward>
      <link_name>rear_left_blade</link_name>
    </plugin>

    <plugin name="rotor_2_blade_1" filename="libLiftDragPlugin.so">
      <a0>0.3</a0>
      <alpha_stall>1.4</alpha_stall>
      <cla>4.2500</cla>
      <cda>0.10</cda>
      <cma>0.00</cma>
      <cla_stall>-0.025</cla_stall>
      <cda_stall>0.0</cda_stall>
      <cma_stall>0.0</cma_stall>
      <area>0.002</area>
      <air_density>1.2041</air_density>
      <cp>0.084 0 0</cp>
      <forward>0 -1 0</forward>
      <upward>0 0 1</upward>
      <link_name>front_left_blade</link_name>
    </plugin>
    <plugin name="rotor_2_blade_2" filename="libLiftDragPlugin.so">
      <a0>0.3</a0>
      <alpha_stall>1.4</alpha_stall>
      <cla>4.2500</cla>
      <cda>0.10</cda>
      <cma>0.00</cma>
      <cla_stall>-0.025</cla_stall>
      <cda_stall>0.0</cda_stall>
      <cma_stall>0.0</cma_stall>
      <area>0.002</area>
      <air_density>1.2041</air_density>
      <cp>-0.084 0 0</cp>
      <forward>0 1 0</forward>
      <upward>0 0 1</upward>
      <link_name>front_left_blade</link_name>
    </plugin>

    <plugin name="rotor_3_blade_1" filename="libLiftDragPlugin.so">
      <a0>0.3</a0>
      <alpha_stall>1.4</alpha_stall>
      <cla>4.2500</cla>
      <cda>0.10</cda>
      <cma>0.00</cma>
      <cla_stall>-0.025</cla_stall>
      <cda_stall>0.0</cda_stall>
      <cma_stall>0.0</cma_stall>
      <area>0.002</area>
      <air_density>1.2041</air_density>
      <cp>0.084 0 0</cp>
      <forward>0 -1 0</forward>
      <upward>0 0 1</upward>
      <link_name>rear_right_blade</link_name>
    </plugin>
    <plugin name="rotor_3_blade_2" filename="libLiftDragPlugin.so">
      <a0>0.3</a0>
      <alpha_stall>1.4</alpha_stall>
      <cla>4.2500</cla>
      <cda>0.10</cda>
      <cma>0.00</cma>
      <cla_stall>-0.025</cla_stall>
      <cda_stall>0.0</cda_stall>
      <cma_stall>0.0</cma_stall>
      <area>0.002</area>
      <air_density>1.2041</air_density>
      <cp>-0.084 0 0</cp>
      <forward>0 1 0</forward>
      <upward>0 0 1</upward>
      <link_name>rear_right_blade</link_name>
    </plugin>

    <plugin name="arducopter_plugin" filename="libArduPilotPlugin.so">
      <fdm_addr>127.0.0.1</fdm_addr>
      <fdm_port_in>9002</fdm_port_in>
      <fdm_port_out>9003</fdm_port_out>
      <!--
          Require by APM :
          Only change model and gazebo from XYZ to XY-Z coordinates
      -->
      <modelXYZToAirplaneXForwardZDown>0 0 0 3.141593 0 0</modelXYZToAirplaneXForwardZDown>
      <gazeboXYZToNED>0 0 0 3.141593 0 0</gazeboXYZToNED>
      <imuName>m4/imu_link::imu_sensor</imuName>
      <connectionTimeoutMaxCount>5</connectionTimeoutMaxCount>
      <control channel="0">
      <!--
          incoming control command [0, 1]
          so offset it by 0 to get [0, 1]
          and divide max target by 1.
          offset = 0
          multiplier = 838 max rpm / 1 = 838
        -->
        <type>VELOCITY</type>
        <offset>0</offset>
        <p_gain>0.2</p_gain>
        <i_gain>0</i_gain>
        <d_gain>0</d_gain>
        <i_max>0</i_max>
        <i_min>0</i_min>
        <cmd_max>2.5</cmd_max>
        <cmd_min>-2.5</cmd_min>
        <jointName>front_right_blade_joint</jointName>
        <multiplier>1898</multiplier>
        <controlVelocitySlowdownSim>1</controlVelocitySlowdownSim>
      </control>
      <control channel="1">
        <type>VELOCITY</type>
        <offset>0</offset>
        <p_gain>0.2</p_gain>
        <i_gain>0</i_gain>
        <d_gain>0</d_gain>
        <i_max>0</i_max>
        <i_min>0</i_min>
        <cmd_max>2.5</cmd_max>
        <cmd_min>-2.5</cmd_min>
        <jointName>rear_left_blade_joint</jointName>
        <multiplier>1898</multiplier>
        <controlVelocitySlowdownSim>1</controlVelocitySlowdownSim>
      </control>
      <control channel="2">
        <type>VELOCITY</type>
        <offset>0</offset>
        <p_gain>0.2</p_gain>
        <i_gain>0</i_gain>
        <d_gain>0</d_gain>
        <i_max>0</i_max>
        <i_min>0</i_min>
        <cmd_max>2.5</cmd_max>
        <cmd_min>-2.5</cmd_min>
        <jointName>front_left_blade_joint</jointName>
        <multiplier>-1898</multiplier>
        <controlVelocitySlowdownSim>1</controlVelocitySlowdownSim>
      </control>
      <control channel="3">
        <type>VELOCITY</type>
        <offset>0</offset>
        <p_gain>0.2</p_gain>
        <i_gain>0</i_gain>
        <d_gain>0</d_gain>
        <i_max>0</i_max>
        <i_min>0</i_min>
        <cmd_max>2.5</cmd_max>
        <cmd_min>-2.5</cmd_min>
        <jointName>rear_right_blade_joint</jointName>
        <multiplier>-1898</multiplier>
        <controlVelocitySlowdownSim>1</controlVelocitySlowdownSim>
      </control>
    </plugin>
  </gazebo>
</robot>
